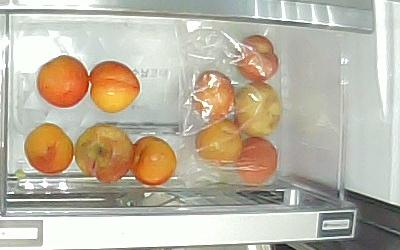prune: (75, 123, 135, 183), (36, 55, 90, 108), (90, 61, 140, 114), (24, 123, 73, 174), (131, 136, 177, 186)
prune_vinyl: (235, 83, 281, 137), (193, 70, 235, 122), (196, 119, 242, 166), (235, 137, 278, 184), (236, 35, 278, 82)
